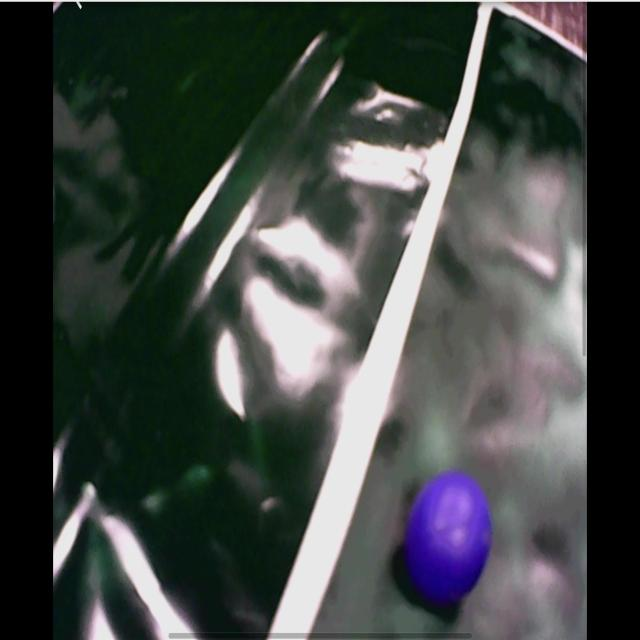ball: (407, 471, 492, 604)
